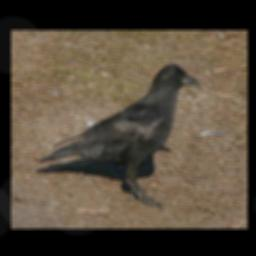Crow: (37, 61, 197, 208)
